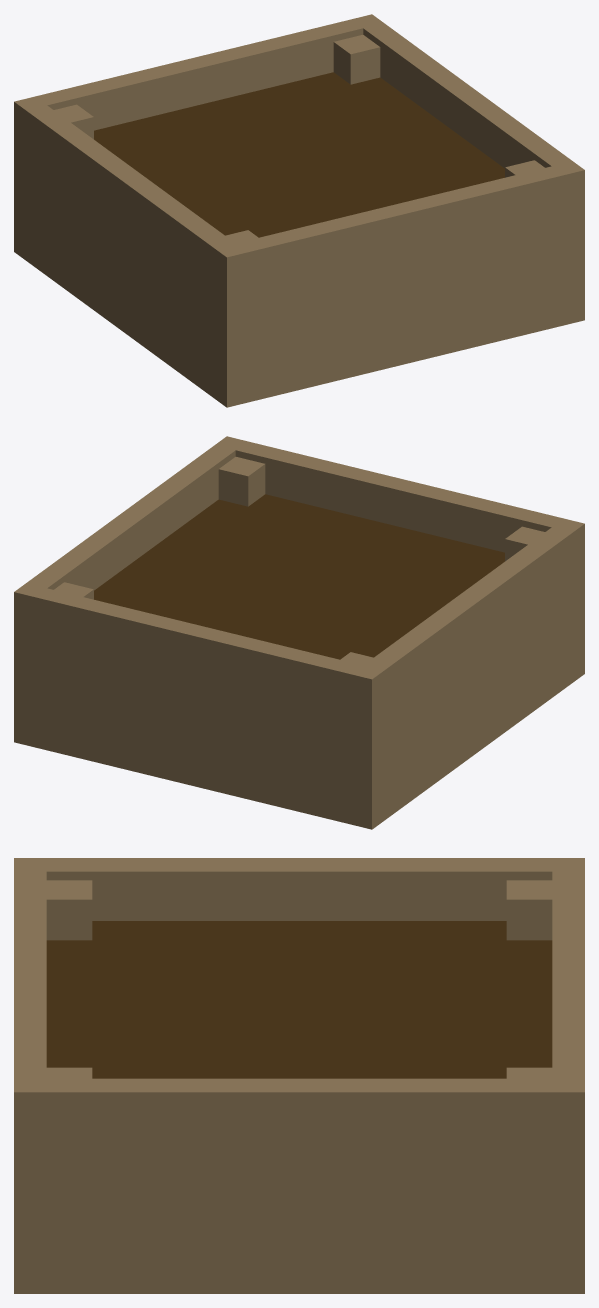
The model's file is Shelf_Small_A_01.fbx.
3 renders of one model, top to bottom at view 1: azimuth 30°, elevation 25°; view 2: azimuth 150°, elevation 25°; view 3: azimuth 270°, elevation 25°, orthographic. The views are drawn at different scales.
Visible parts, largest first — view 1: polySurface54, polySurface53, polySurface66, polySurface65; view 2: polySurface54, polySurface53, polySurface63, polySurface64; view 3: polySurface54, polySurface53, polySurface64, polySurface65, polySurface63, polySurface66.
Part boxes in pixels (x1=…): polySurface54: x1=14, y1=14, x2=584, y2=407; polySurface53: x1=94, y1=72, x2=504, y2=237; polySurface66: x1=333, y1=35, x2=380, y2=84; polySurface65: x1=54, y1=104, x2=93, y2=139; polySurface54: x1=14, y1=436, x2=584, y2=829; polySurface53: x1=94, y1=494, x2=504, y2=659; polySurface63: x1=218, y1=457, x2=265, y2=506; polySurface64: x1=505, y1=526, x2=544, y2=561; polySurface54: x1=14, y1=858, x2=584, y2=1293; polySurface53: x1=46, y1=921, x2=552, y2=1078; polySurface64: x1=46, y1=880, x2=92, y2=940; polySurface65: x1=506, y1=880, x2=552, y2=940; polySurface63: x1=46, y1=1067, x2=92, y2=1078; polySurface66: x1=506, y1=1067, x2=552, y2=1078.
Size of the model in its own units: 136 by 54.53 by 140.
